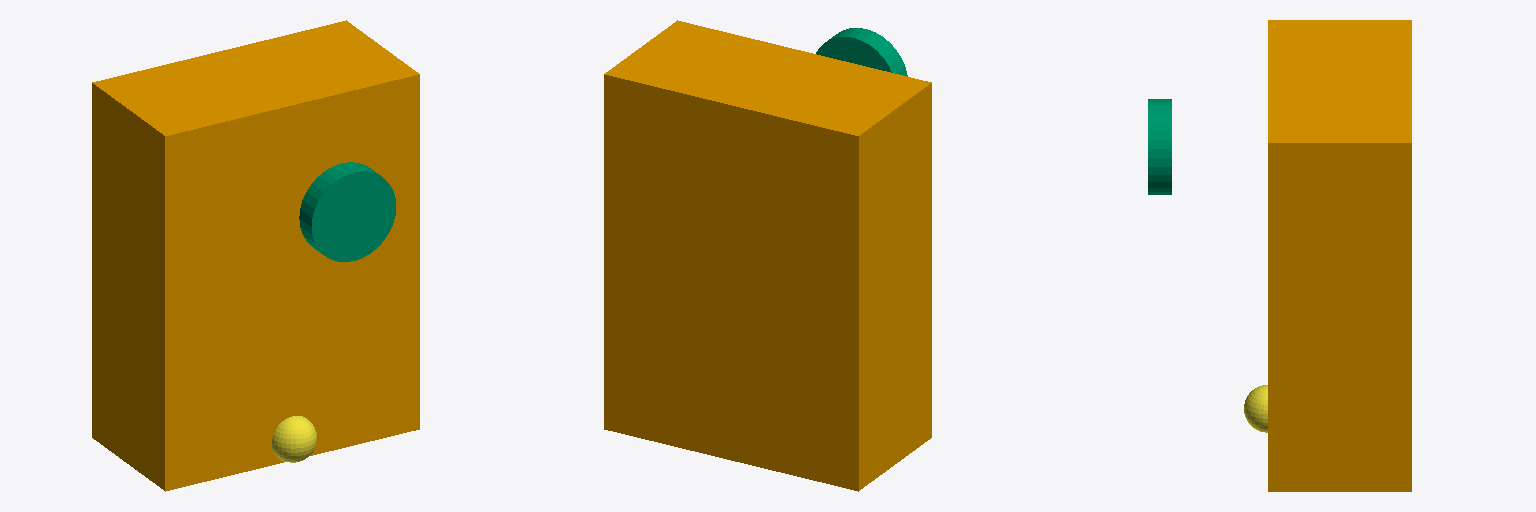
The robot description file, URDF, robot "cart_minimal":
<?xml version="1.0"?>
<robot name="cart_minimal">
  <link name="base_link">
    <visual>
      <origin xyz="0 0.15 0" rpy="0 0 0"/>
      <geometry>
        <box size="0.6 0.3 0.8"/>
      </geometry>
    </visual>
    <collision>
      <origin xyz="0 0.15 0" rpy="0 0 0"/>
      <geometry>
        <box size="0.6 0.3 0.8"/>
      </geometry>
    </collision>
  </link>

  <link name="left_wheel">
    <visual>
      <origin xyz="0 0 0" rpy="1.5708 0 0"/>
      <geometry>
        <cylinder radius="0.1" length="0.05"/>
      </geometry>
    </visual>
    <collision>
      <origin xyz="0 0 0" rpy="1.5708 0 0"/>
      <geometry>
        <cylinder radius="0.1" length="0.05"/>
      </geometry>
    </collision>
  </link>

  <link name="right_wheel">
    <visual>
      <origin xyz="0 0 0" rpy="1.5708 0 0"/>
      <geometry>
        <cylinder radius="0.1" length="0.05"/>
      </geometry>
    </visual>
    <collision>
      <origin xyz="0 0 0" rpy="1.5708 0 0"/>
      <geometry>
        <cylinder radius="0.1" length="0.05"/>
      </geometry>
    </collision>
  </link>

  <link name="caster">
    <visual>
      <origin xyz="0 0 0" rpy="0 0 0"/>
      <geometry>
        <sphere radius="0.05"/>
      </geometry>
    </visual>
    <collision>
      <origin xyz="0 0 0" rpy="0 0 0"/>
      <geometry>
        <sphere radius="0.05"/>
      </geometry>
    </collision>
  </link>

  <joint name="left_wheel_joint" type="continuous">
    <parent link="base_link"/>
    <child link="left_wheel"/>
    <origin xyz="0 0.225 0.25" rpy="0 0 0"/>
    <axis xyz="0 1 0"/>
  </joint>

  <joint name="right_wheel_joint" type="continuous">
    <parent link="base_link"/>
    <child link="right_wheel"/>
    <origin xyz="0 -0.225 0.25" rpy="0 0 0"/>
    <axis xyz="0 1 0"/>
  </joint>

  <joint name="caster_joint" type="fixed">
    <parent link="base_link"/>
    <child link="caster"/>
    <origin xyz="0 0 -0.35" rpy="0 0 0"/>
  </joint>
</robot>

--- What the picture shows (computed from the rendered views, not written in the file) ---
The picture shows the robot from 3 angles, left to right: view 1: azimuth 30°, elevation 25°; view 2: azimuth 150°, elevation 25°; view 3: azimuth 270°, elevation 25°; orthographic projection.
Model cart_minimal with 4 links and 3 joints (2 continuous, 1 fixed), rooted at base_link, posed every joint at zero.
Visible links, largest first — view 1: base_link, right_wheel, caster; view 2: base_link, right_wheel; view 3: base_link, right_wheel, caster.
Boxes of the visible links, left/top/right/bottom form: base_link: left=92, top=20, right=419, bottom=491; right_wheel: left=299, top=162, right=395, bottom=261; caster: left=272, top=416, right=316, bottom=462; base_link: left=604, top=20, right=931, bottom=491; right_wheel: left=816, top=28, right=907, bottom=76; base_link: left=1268, top=20, right=1411, bottom=491; right_wheel: left=1148, top=99, right=1171, bottom=194; caster: left=1244, top=385, right=1267, bottom=432.
Bounding box of the posed robot: 0.6 × 0.55 × 0.8 m (x, y, z).
Geometry: primitives only (box / cylinder / sphere), no mesh files.
